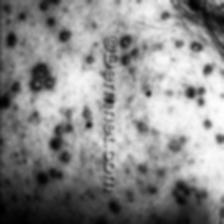Toxin: (0, 0, 97, 224), (120, 30, 205, 210)
